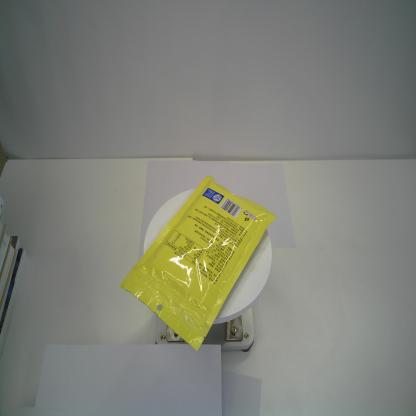Dried Fruit: (119, 175, 277, 355)
